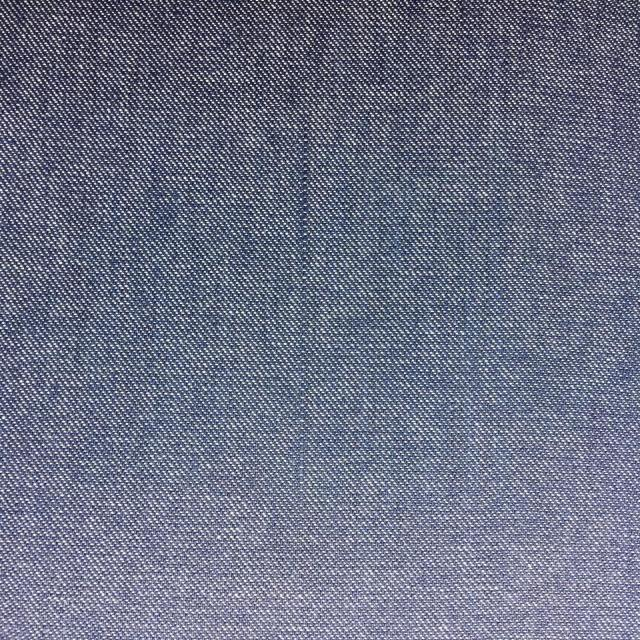Line: (295, 114, 312, 332)
